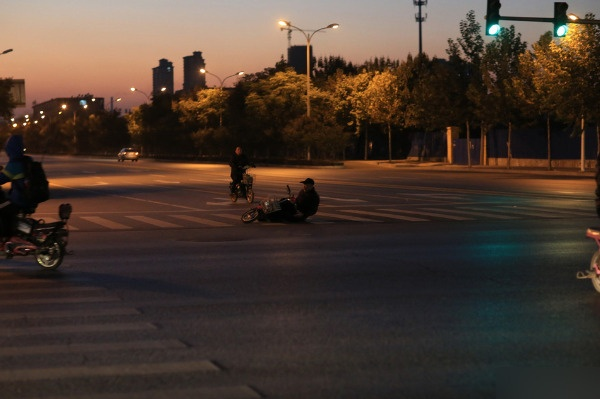falling: (245, 169, 328, 230)
